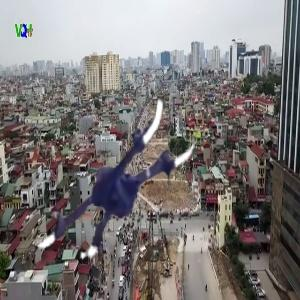drone: (11, 79, 202, 270)
